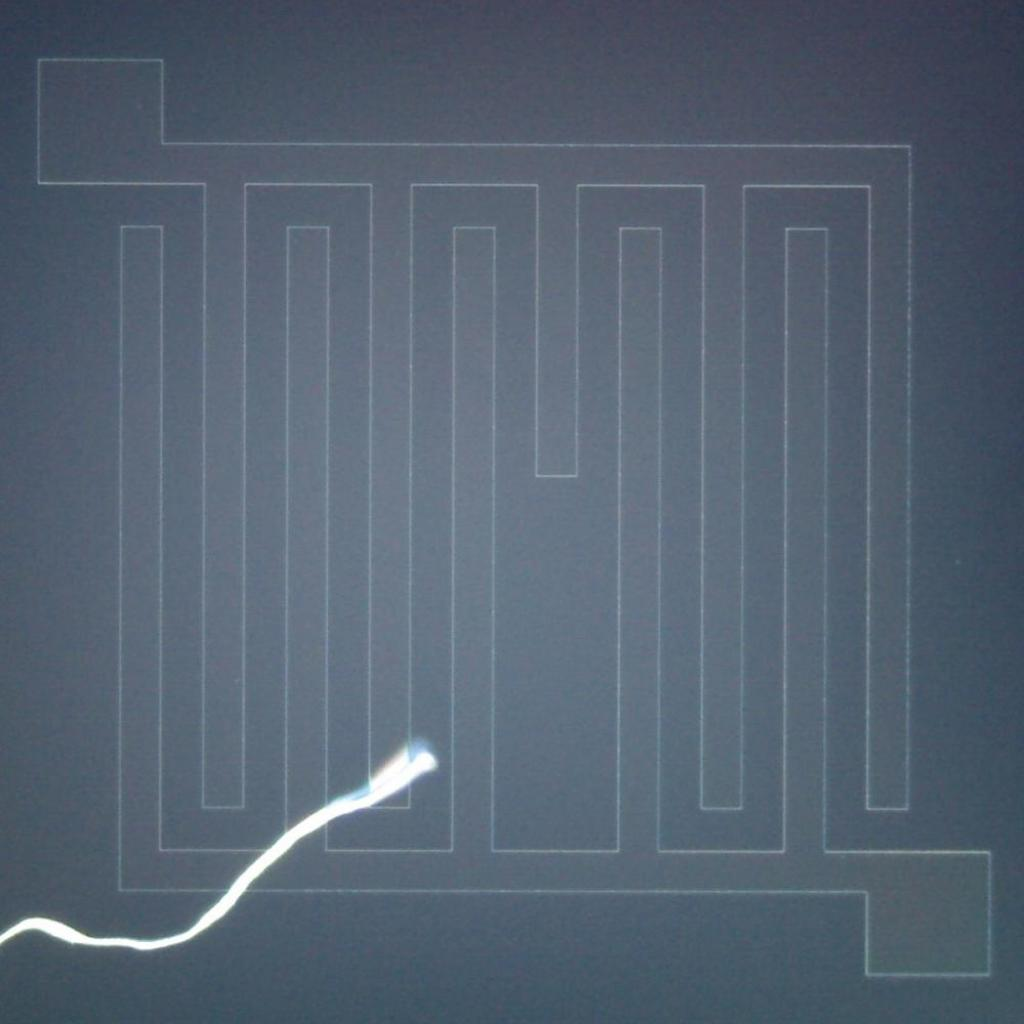curve: (238, 852, 276, 888), (206, 892, 244, 928), (364, 770, 402, 806), (169, 912, 206, 948), (55, 917, 92, 953), (402, 750, 439, 786), (328, 788, 364, 824), (93, 924, 130, 959), (131, 926, 168, 960), (20, 910, 54, 946), (288, 808, 324, 842)
